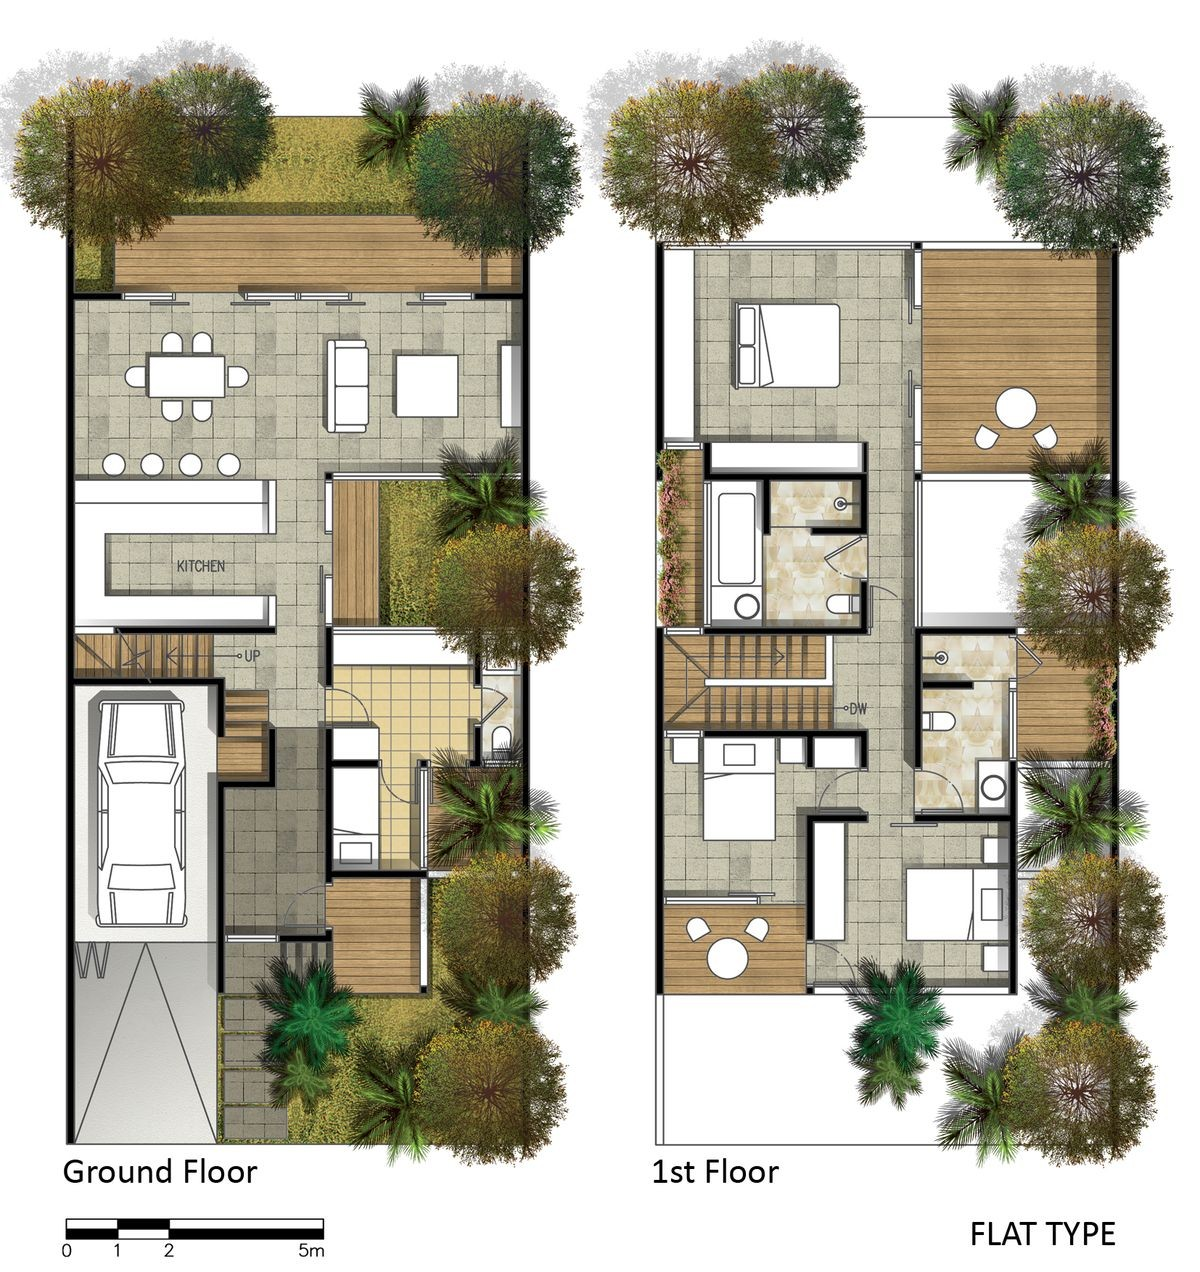room: (67, 293, 530, 475), (655, 241, 923, 454), (804, 813, 1021, 993), (654, 728, 817, 906)
window: (663, 241, 914, 250), (703, 480, 713, 628), (914, 478, 923, 627), (418, 768, 430, 872), (245, 292, 353, 301), (1007, 687, 1020, 760), (121, 292, 177, 301), (223, 934, 279, 943), (422, 292, 474, 299), (661, 441, 705, 449), (660, 626, 704, 634)
